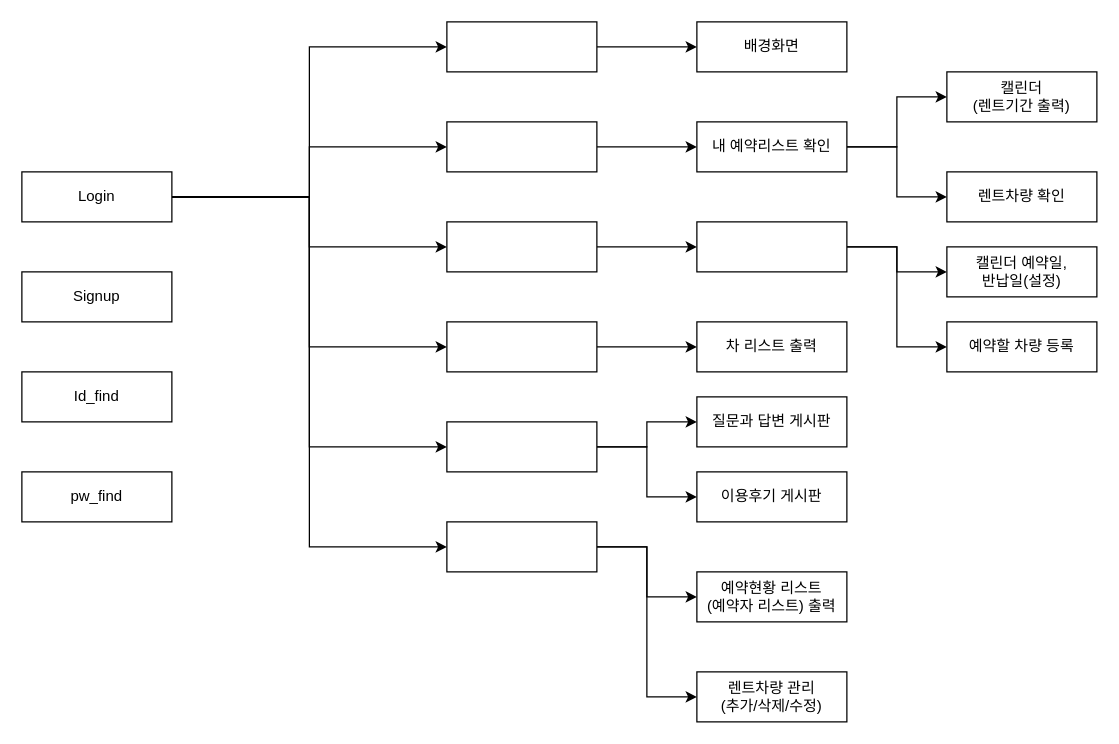
The diagram is 1119 pixels wide and 744 high, and some of its shapes have lost their labels. The centre of each missing label's shape, as x and y in pixels:
"Admin page" belongs at pixel 521 546.
"Car info" belongs at pixel 521 346.
"Home" belongs at pixel 521 46.
"Mypage" belongs at pixel 521 146.
"Reservation" belongs at pixel 521 246.
"Service center" belongs at pixel 521 446.
"예약하기" belongs at pixel 771 246.
